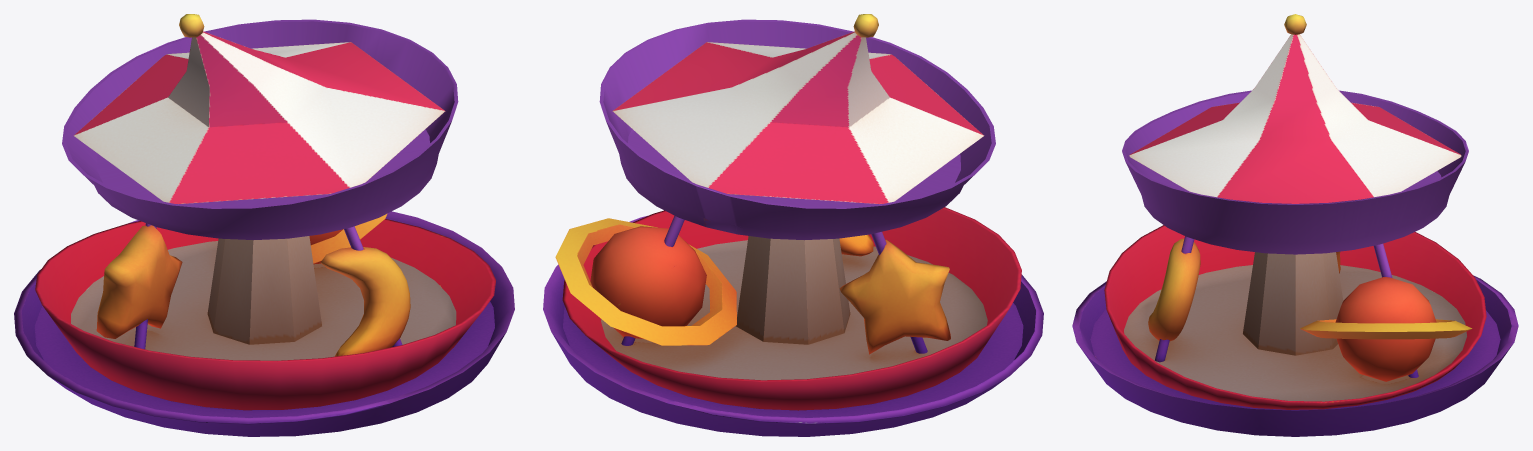
Rendered from mahmoon.fbx.
The picture shows the model from 3 angles, left to right: view 1: azimuth 30°, elevation 25°; view 2: azimuth 150°, elevation 25°; view 3: azimuth 270°, elevation 25°; orthographic projection. The views are drawn at different scales.
Parts seen in each view (by area): view 1: Cylinder, Cone, Cylinder.002, Cylinder.001, Cylinder.006, Plane, Cube.017, Torus, Cube.002; view 2: Cone, Cylinder, Cylinder.002, Cylinder.001, Cylinder.006, Icosphere, Plane, Torus, Cube.017, Cube.002; view 3: Cylinder, Cone, Cylinder.002, Cylinder.001, Cylinder.006, Icosphere, Cube.017, Torus.
Boxes of the visible parts, x1,y1,x2,y2 form: Cylinder: (35, 219, 495, 410); Cone: (73, 31, 445, 204); Cylinder.002: (62, 19, 458, 240); Cylinder.001: (14, 211, 514, 436); Cylinder.006: (207, 236, 321, 344); Plane: (96, 225, 182, 338); Cube.017: (320, 247, 410, 356); Torus: (310, 213, 387, 263); Cube.002: (179, 14, 204, 37); Cone: (612, 31, 984, 204); Cylinder: (562, 207, 1021, 410); Cylinder.002: (599, 19, 995, 240); Cylinder.001: (543, 215, 1043, 436); Cylinder.006: (736, 236, 850, 344); Icosphere: (590, 226, 706, 338); Plane: (839, 239, 950, 354); Torus: (555, 218, 736, 345); Cube.017: (839, 234, 873, 256); Cube.002: (853, 14, 878, 37); Cylinder: (1104, 225, 1486, 409); Cone: (1129, 34, 1461, 203); Cylinder.002: (1122, 90, 1468, 254); Cylinder.001: (1072, 275, 1518, 436); Cylinder.006: (1243, 252, 1343, 355); Icosphere: (1335, 277, 1436, 381); Cube.017: (1148, 238, 1200, 341); Torus: (1300, 319, 1472, 339).
Size of the model in its own units: 1161 by 878 by 1162.
